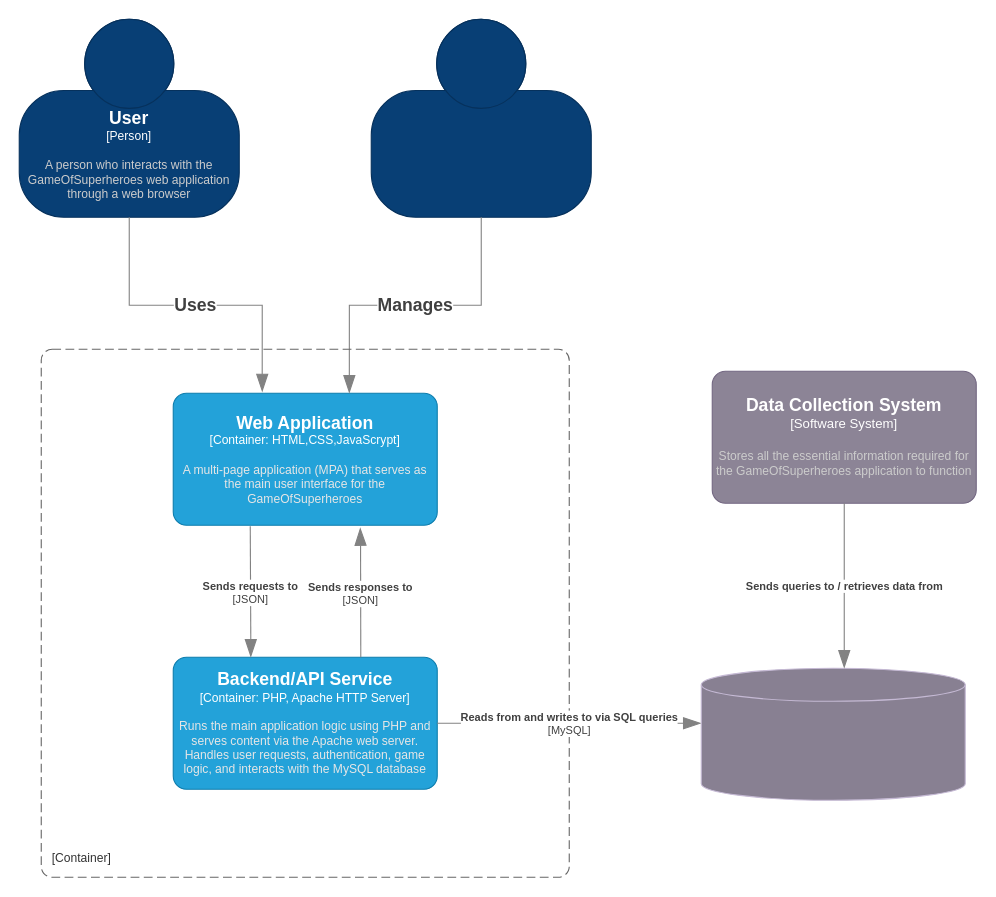
This 996x897 diagram has some shape labels left out. The shapes that lost their labels are listed below. From the top down, each one's centre as x and y in pixels, then its label:
[480,117]: Admin [Person] Manages question content, game settings and user moderation
[832,733]: DataBase [Container: Oracle Dastabase Schema]
